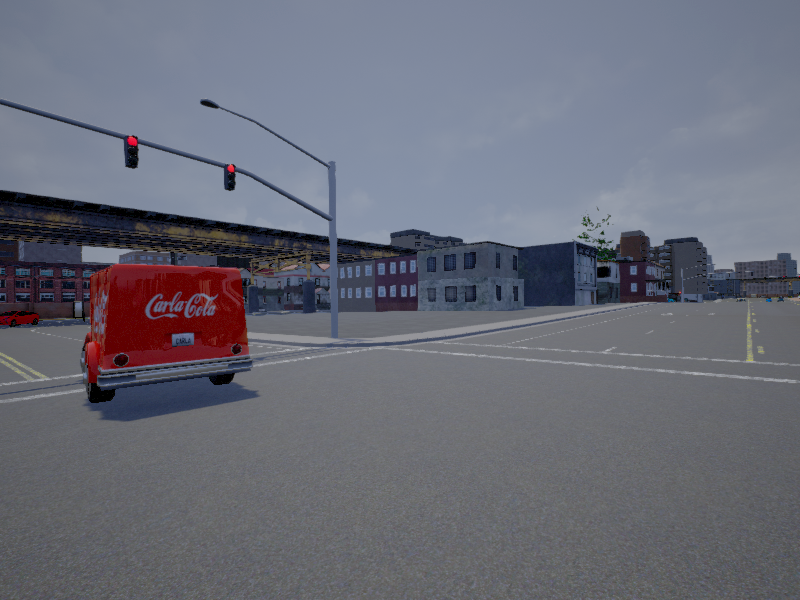Benign: (81, 266, 248, 402), (1, 310, 43, 327)
